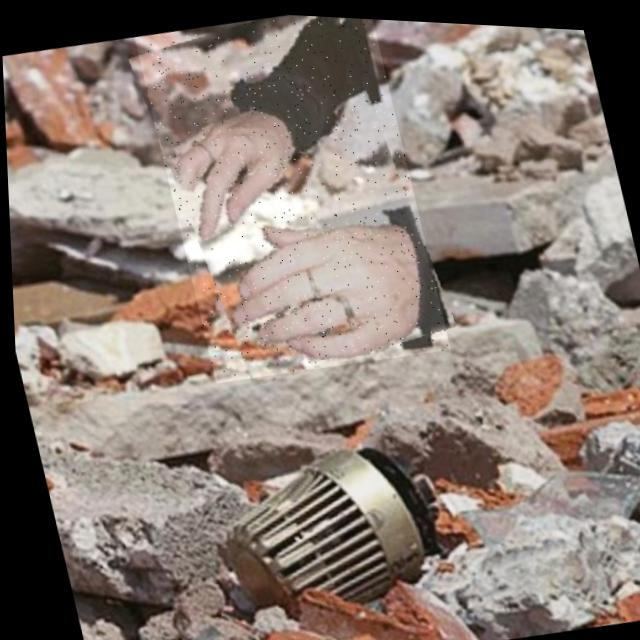Person in Rubble: (133, 5, 449, 391)
